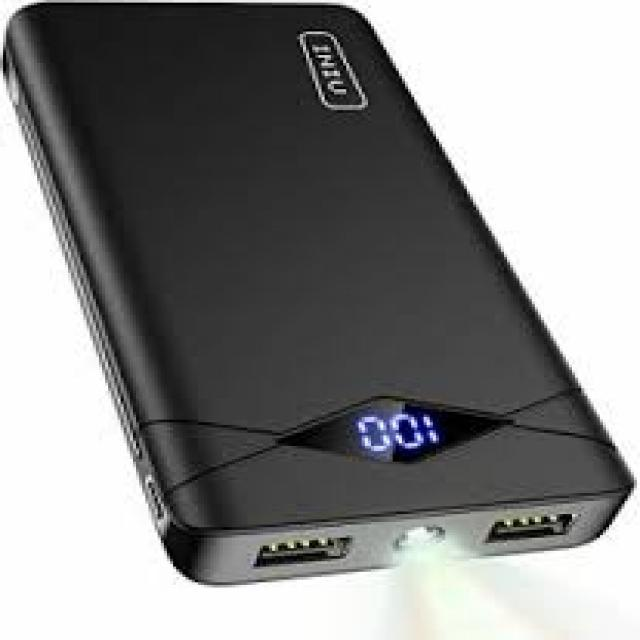battery: (6, 0, 635, 588)
